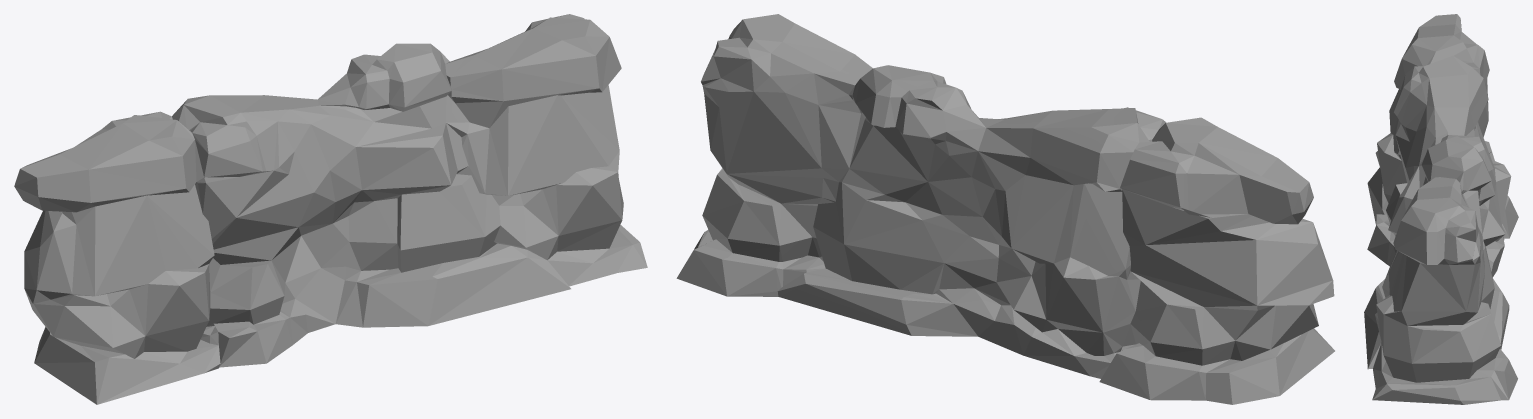
File: rock__rockform_wall_long_light.glb
3 renders of one model, left to right at view 1: azimuth 30°, elevation 25°; view 2: azimuth 150°, elevation 25°; view 3: azimuth 270°, elevation 25°, orthographic. The views are drawn at different scales.
Parts seen in each view (by area): view 1: rockform.wall.long.light; view 2: rockform.wall.long.light; view 3: rockform.wall.long.light.
Part boxes in pixels (x1,y1,x2,y2): rockform.wall.long.light: (14, 14, 647, 404); rockform.wall.long.light: (676, 14, 1334, 404); rockform.wall.long.light: (1364, 14, 1518, 404).
Size of the model in its own units: 42.26 by 15.35 by 11.8.
Materials: 1 (1 with a texture image).
